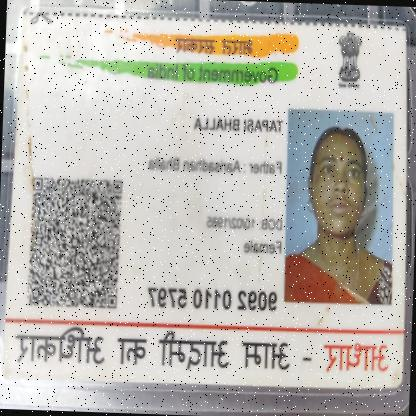aadhaar_card: (0, 5, 410, 400)
